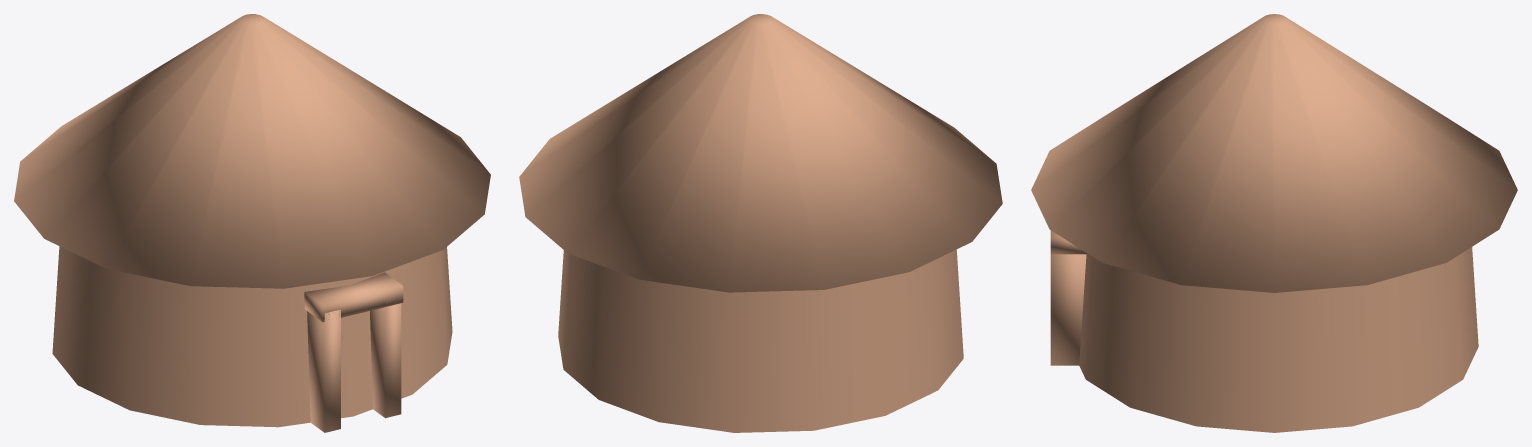
The model's file is hut.glb.
The picture shows the model from 3 angles, left to right: view 1: azimuth 30°, elevation 25°; view 2: azimuth 150°, elevation 25°; view 3: azimuth 270°, elevation 25°; orthographic projection.
Parts seen in each view (by area): view 1: Hut; view 2: Hut; view 3: Hut.
Boxes of the visible parts, bbox=[...] form: Hut: bbox=[14, 14, 490, 432]; Hut: bbox=[519, 14, 1002, 432]; Hut: bbox=[1031, 14, 1517, 432].
Bounding box in the file's own units: 3.1 × 2.3 × 3.1.
